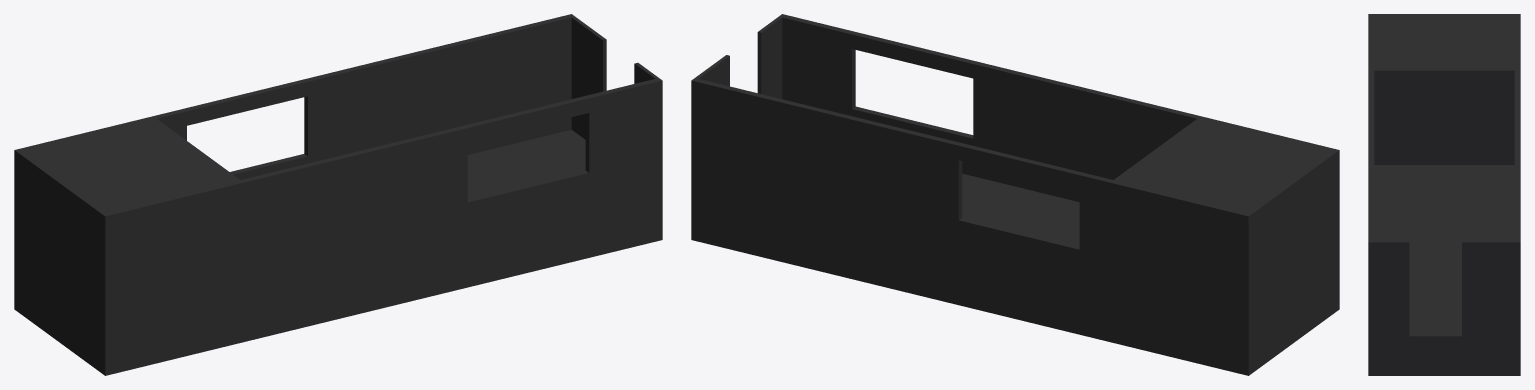
The model's file is ExtendedFoodTruckBodyCol.fbx.
3 renders of one model, left to right at view 1: azimuth 30°, elevation 25°; view 2: azimuth 150°, elevation 25°; view 3: azimuth 270°, elevation 25°, orthographic. The views are drawn at different scales.
Parts seen in each view (by area): view 1: ExtendedFoodTruckBodyCol; view 2: ExtendedFoodTruckBodyCol; view 3: ExtendedFoodTruckBodyCol.
Boxes of the visible parts, x1=… form: ExtendedFoodTruckBodyCol: x1=14, y1=14, x2=662, y2=375; ExtendedFoodTruckBodyCol: x1=691, y1=14, x2=1339, y2=375; ExtendedFoodTruckBodyCol: x1=1368, y1=14, x2=1520, y2=375.
Size of the model in its own units: 920 by 252 by 260.
